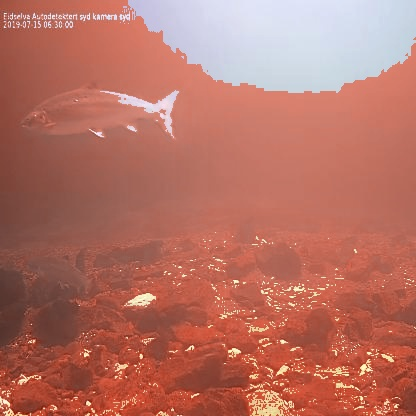salmon: (18, 75, 182, 149), (22, 252, 98, 300)
